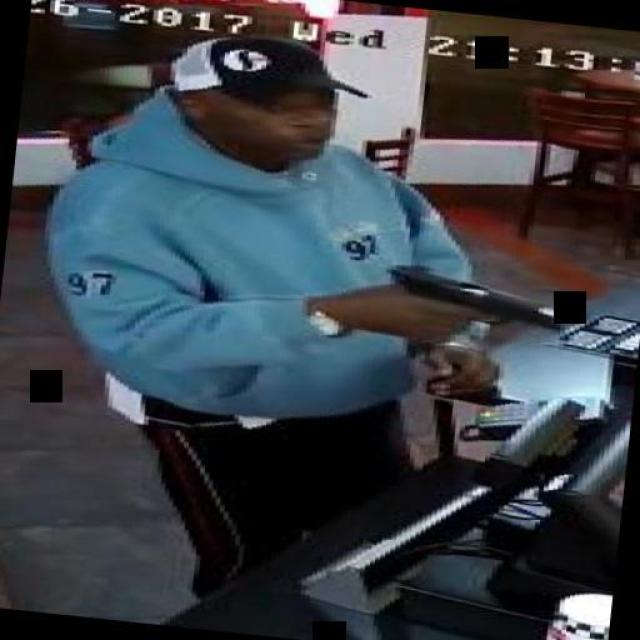gun: (371, 258, 575, 354)
